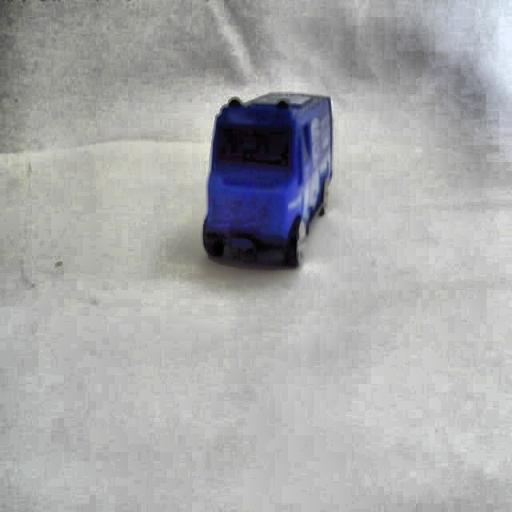police car: (207, 87, 339, 274)
